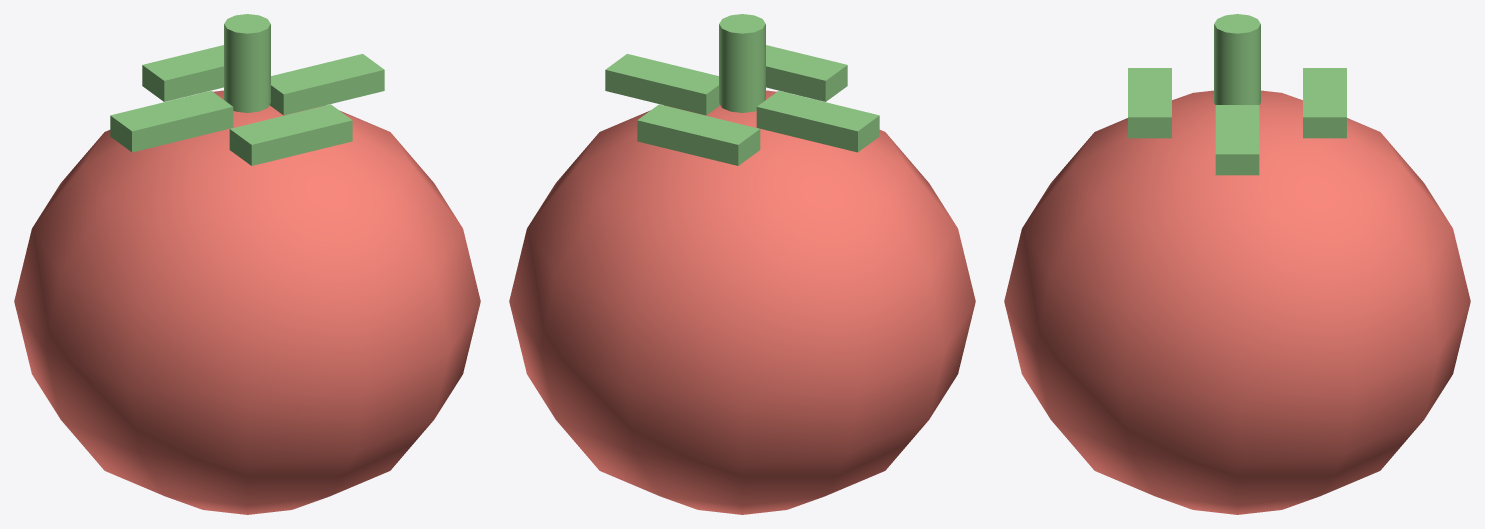
File: collectible_tomato.glb
3 views of the same model, side by side, from view 1: azimuth 30°, elevation 25°; view 2: azimuth 150°, elevation 25°; view 3: azimuth 270°, elevation 25° (orthographic).
Visible parts, largest first — view 1: CollectibleTomato; view 2: CollectibleTomato; view 3: CollectibleTomato.
Part boxes in pixels (bbox=[...]): CollectibleTomato: bbox=[14, 14, 480, 514]; CollectibleTomato: bbox=[509, 14, 975, 514]; CollectibleTomato: bbox=[1004, 14, 1470, 514].
Size of the model in its own units: 0.16 by 0.177 by 0.16.
